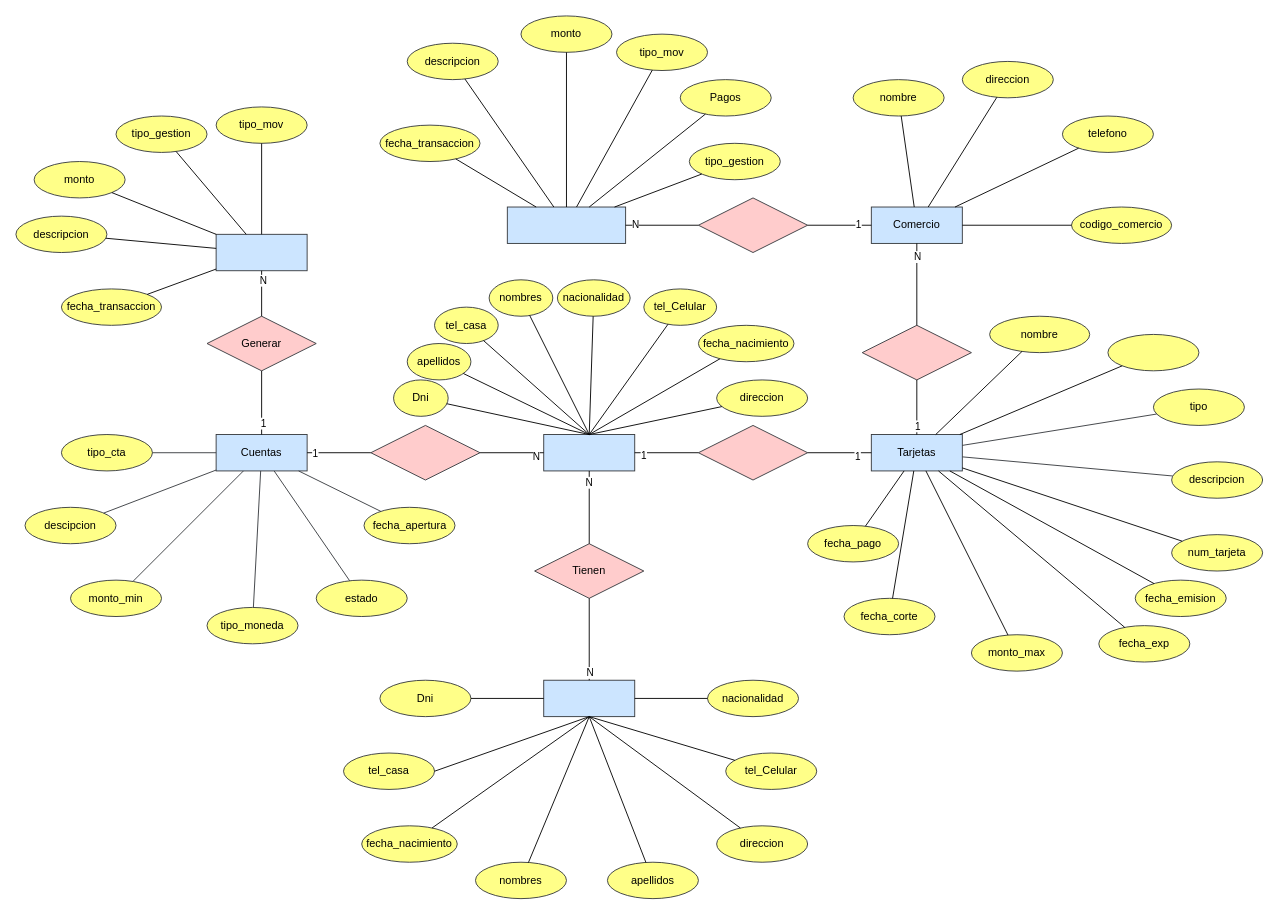
The diagram is 1279 pixels wide and 915 high, and some of its shapes have lost their labels. Here are the shapes that lost their labels. From the top down, the centre of each, then its label:
the point at 566,224: Movimientos_tarjeta
the point at 753,225: Realiza
the point at 261,252: Movimientos_cta
the point at 916,352: Especifica
the point at 1153,352: monto_base
the point at 425,452: Abre
the point at 589,452: Cliente
the point at 753,452: Solicita
the point at 589,698: Referencias
